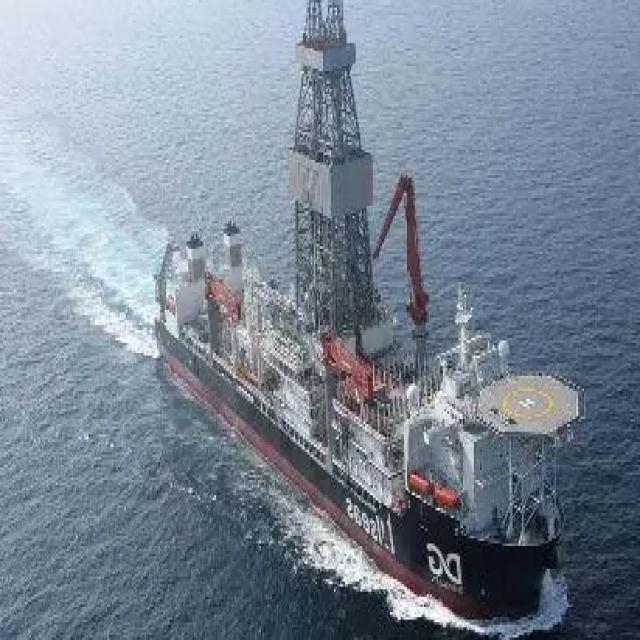navalvessels: (127, 16, 588, 619)
